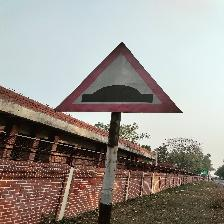Speed-breaker: (54, 42, 184, 112)
